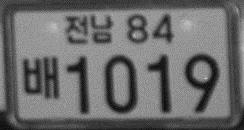0: (102, 53, 138, 114)
1: (144, 52, 172, 113), (65, 54, 90, 114)
4: (151, 11, 175, 43)
8: (126, 13, 148, 43)
9: (183, 51, 221, 113)
배: (21, 54, 60, 100)
전남_H: (63, 12, 114, 45)
